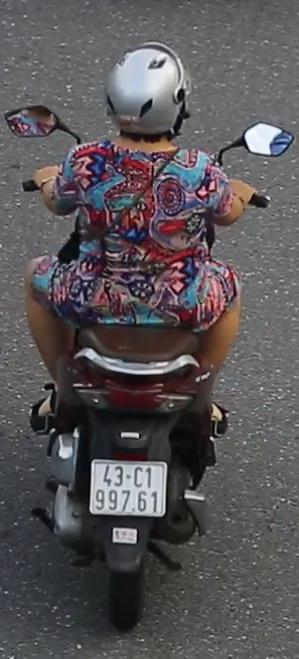LP: (87, 452, 172, 522)
helmet: (97, 33, 199, 159)
